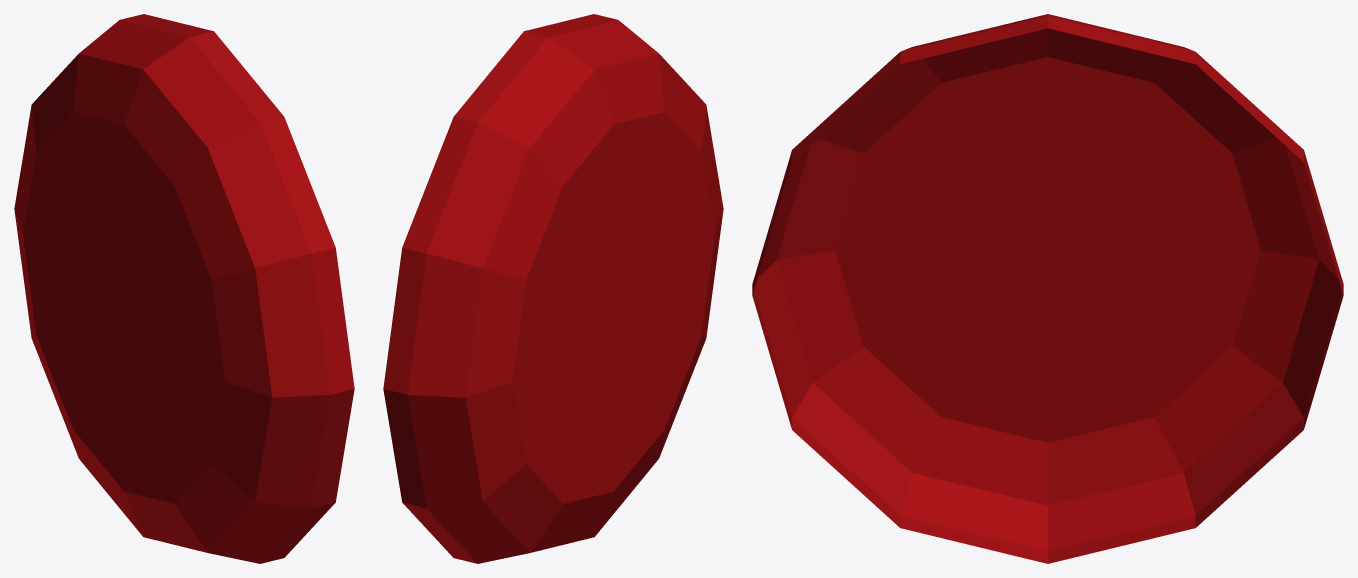
Rendered from red_light.fbx.
3 views of the same model, side by side, from view 1: azimuth 30°, elevation 25°; view 2: azimuth 150°, elevation 25°; view 3: azimuth 270°, elevation 25° (orthographic). The views are drawn at different scales.
Visible parts, largest first — view 1: Circle.002; view 2: Circle.002; view 3: Circle.002.
Boxes of the visible parts, x1=… form: Circle.002: x1=14, y1=14, x2=354, y2=563; Circle.002: x1=383, y1=14, x2=723, y2=563; Circle.002: x1=752, y1=14, x2=1343, y2=563.
Size of the model in its own units: 9.98 by 53.96 by 53.96.
